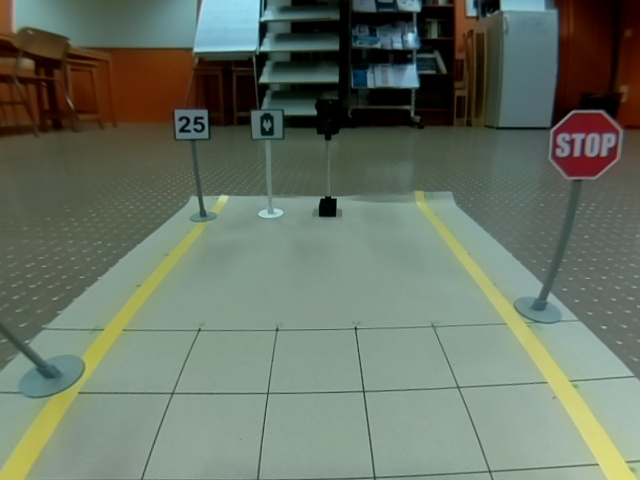battery: (251, 109, 284, 140)
speed25: (173, 108, 211, 141)
stop: (549, 110, 622, 180)
trafficLightOff: (315, 98, 340, 135)
